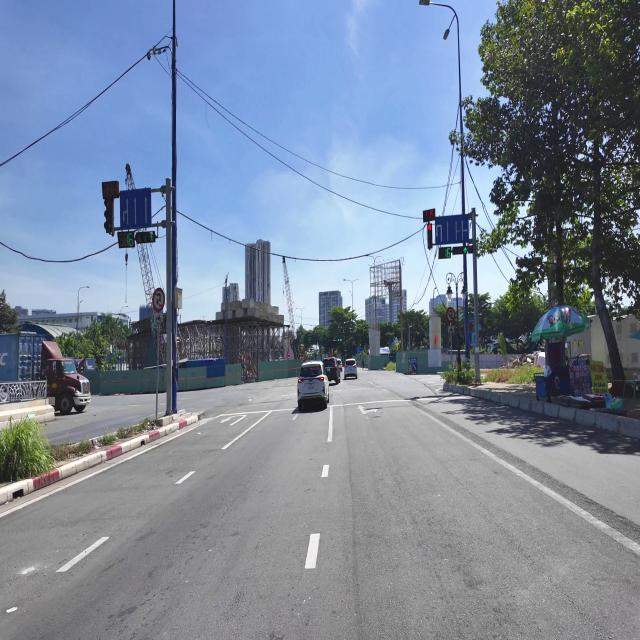car: (298, 361, 329, 410), (323, 357, 340, 383), (344, 359, 357, 379), (337, 359, 343, 374)
